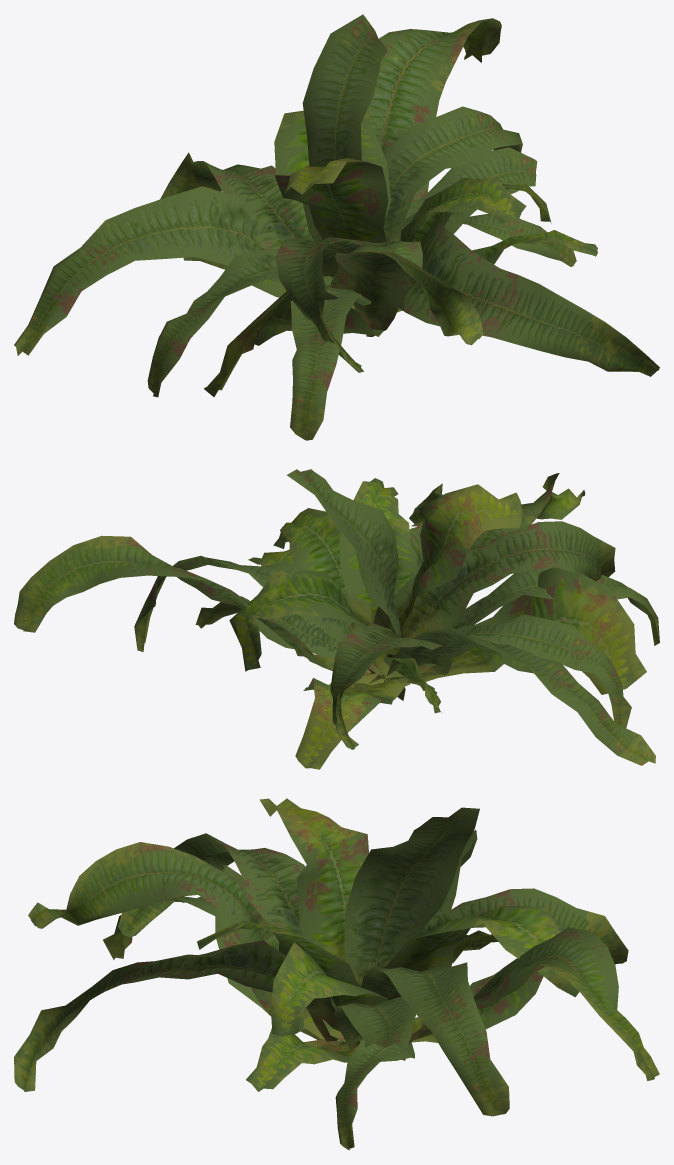
Rendered from Planta_12.glb.
The picture shows the model from 3 angles, top to bottom: view 1: azimuth 30°, elevation 25°; view 2: azimuth 150°, elevation 25°; view 3: azimuth 270°, elevation 25°; orthographic projection. The views are drawn at different scales.
Visible parts, largest first — view 1: Planta 12; view 2: Planta 12; view 3: Planta 12.
Boxes of the visible parts, <box> form: Planta 12: <box>14,14,659,440</box>; Planta 12: <box>14,469,659,769</box>; Planta 12: <box>14,798,659,1150</box>.
Bounding box in the file's own units: 1.78 × 0.7699 × 1.61.
1 material, 1 textured.
